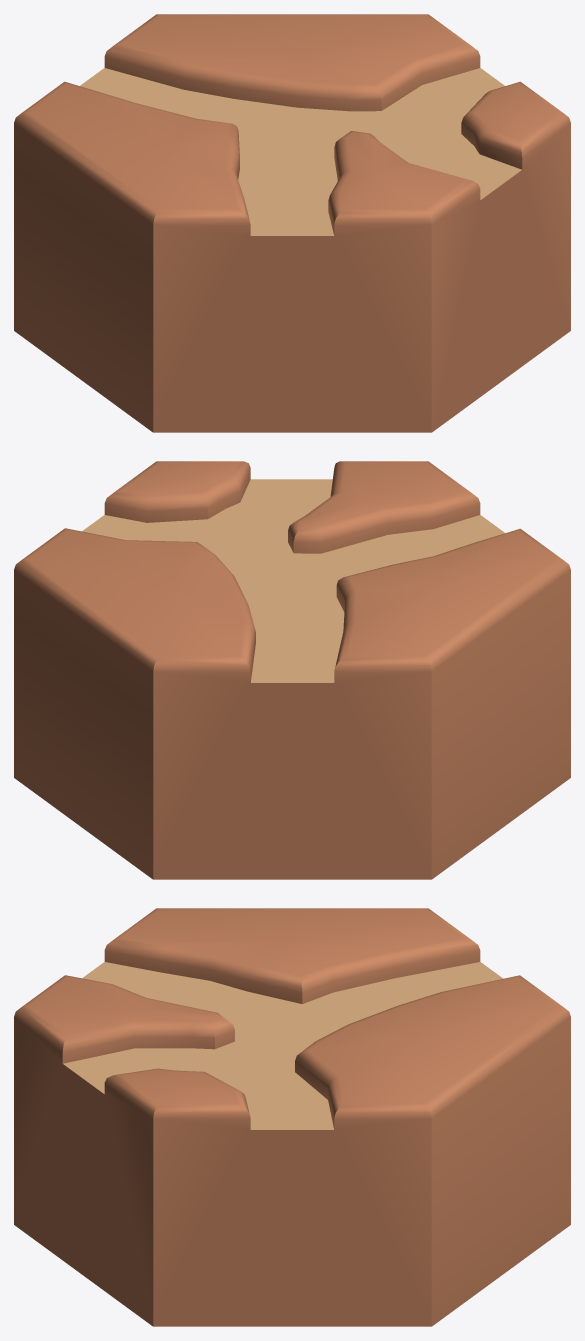
Rendered from hex_rock_roadI.glb.
The picture shows the model from 3 angles, top to bottom: view 1: azimuth 30°, elevation 25°; view 2: azimuth 150°, elevation 25°; view 3: azimuth 270°, elevation 25°; orthographic projection.
Parts seen in each view (by area): view 1: hex_rock_roadI; view 2: hex_rock_roadI; view 3: hex_rock_roadI.
Boxes of the visible parts, x1,y1,x2,y2 form: hex_rock_roadI: (14, 14, 570, 432); hex_rock_roadI: (14, 461, 570, 879); hex_rock_roadI: (14, 908, 570, 1326).
Size of the model in its own units: 2 by 1 by 2.31.
